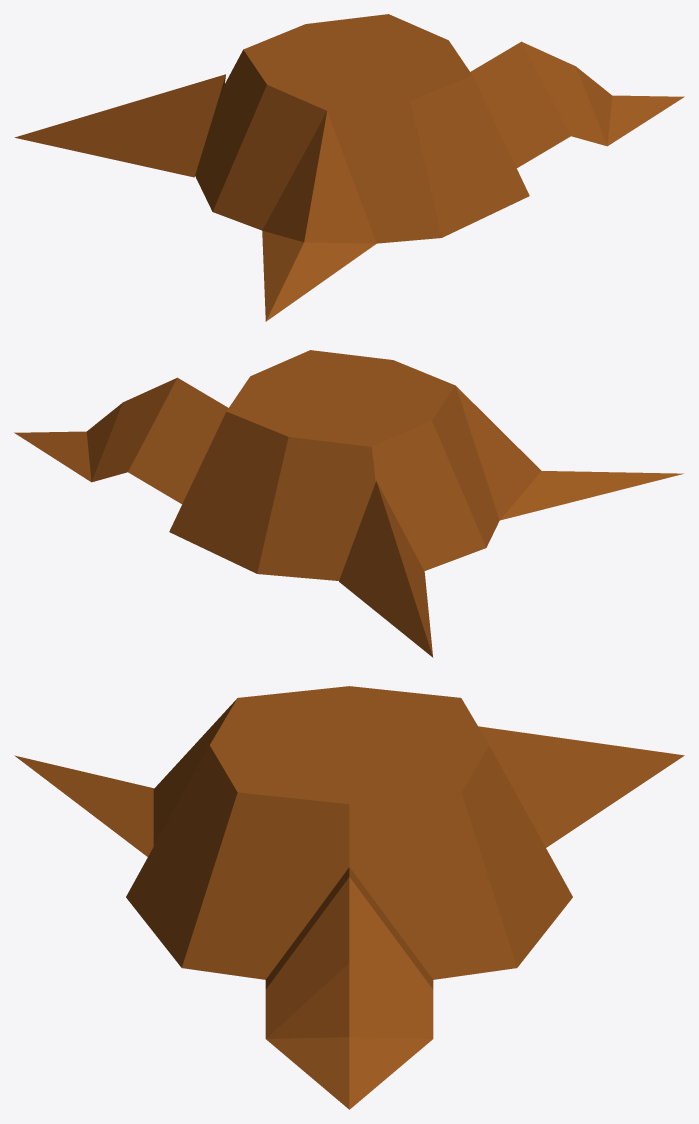
File: maplestump.glb
3 views of the same model, one above another, from view 1: azimuth 30°, elevation 25°; view 2: azimuth 150°, elevation 25°; view 3: azimuth 270°, elevation 25° (orthographic). The views are drawn at different scales.
Visible parts, largest first — view 1: tree; view 2: tree; view 3: tree.
Boxes of the visible parts, <box> form: tree: <box>14,14,684,321</box>; tree: <box>14,350,683,657</box>; tree: <box>14,686,684,1109</box>.
Bounding box in the file's own units: 1.31 × 0.261 × 1.04.
